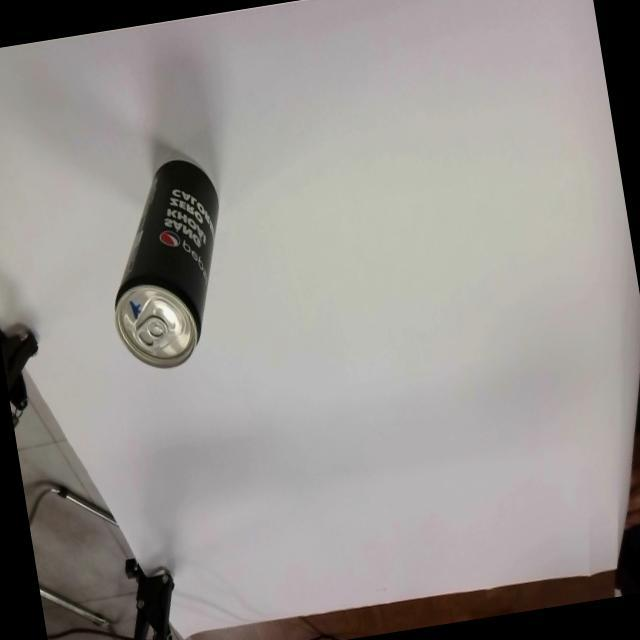debris: (90, 153, 243, 376)
